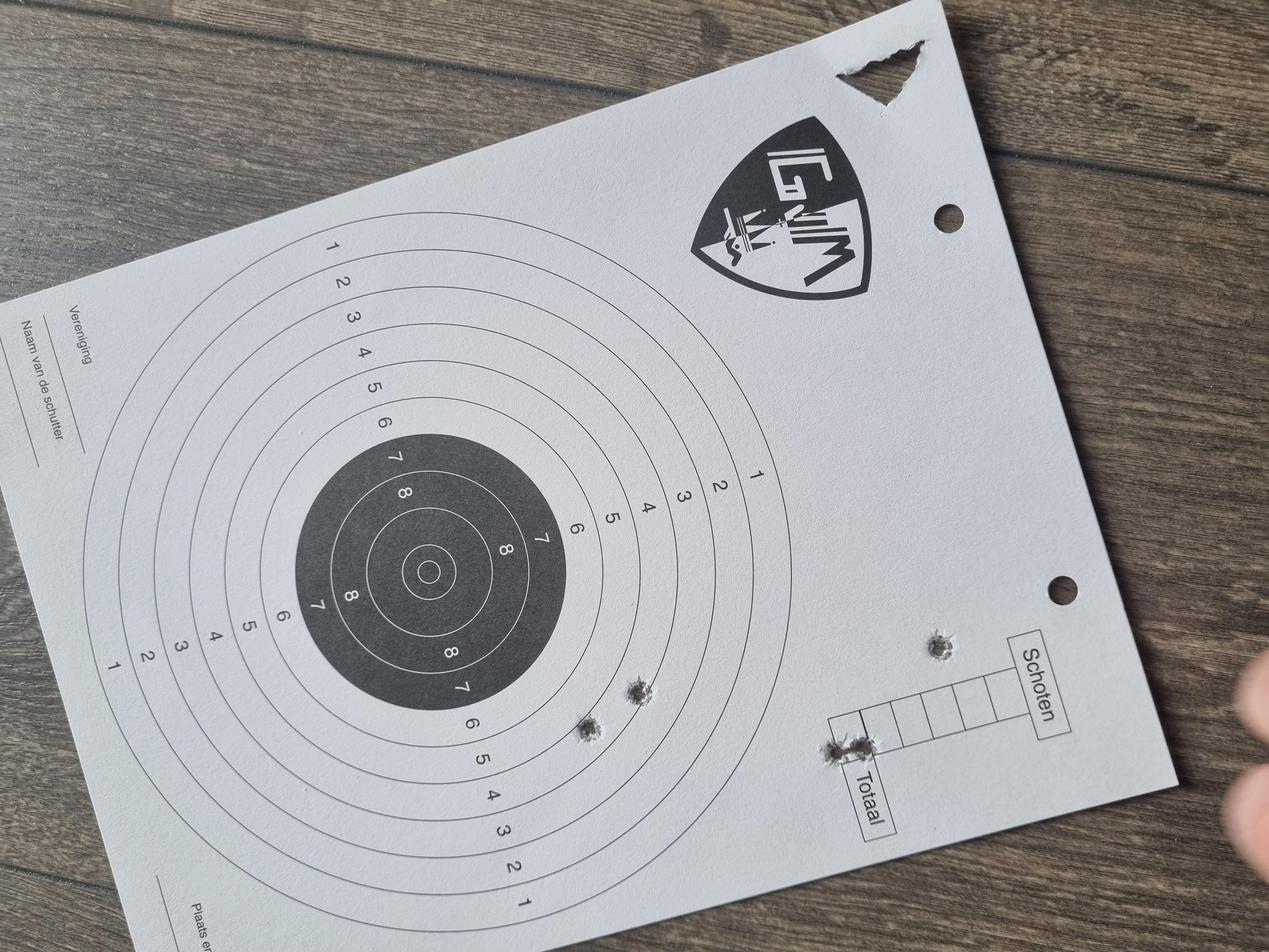hole: (386, 693, 433, 717), (244, 616, 293, 637), (326, 469, 368, 490), (252, 638, 291, 659), (279, 432, 317, 452)
